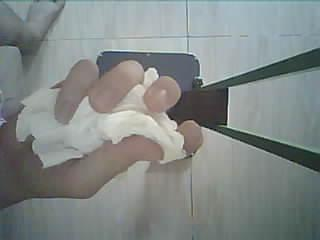paper: (17, 68, 186, 168)
